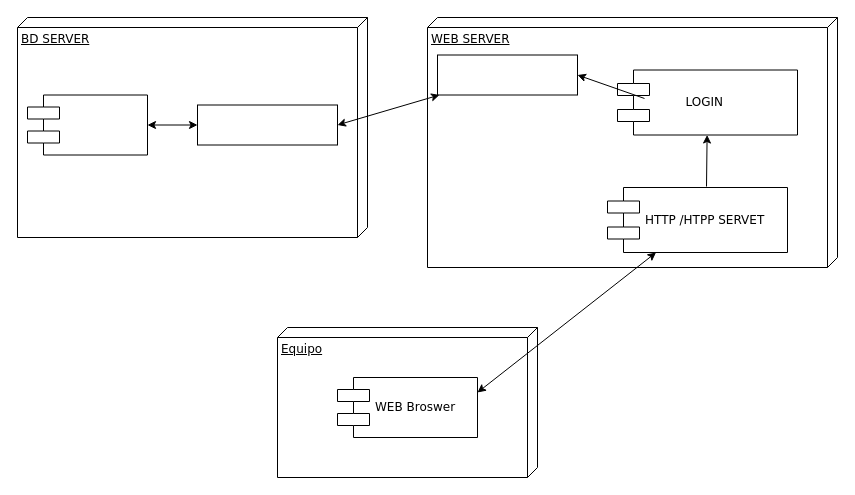
Image size: 855x495. Some labels were removed from this diagram. The shapes that lost their labels are listed below. From the top down, each one's centre as x and y in pixels, then its label:
At pixel 507 74: "«interface» Databases Interfaz".
At pixel 87 124: "S.G.B.D.".
At pixel 267 124: "«interface» Consulta SQL".
